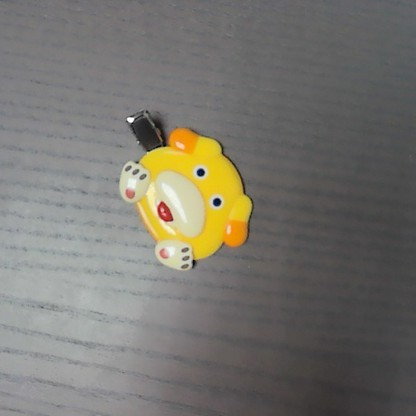dogclip: (114, 104, 255, 273)
